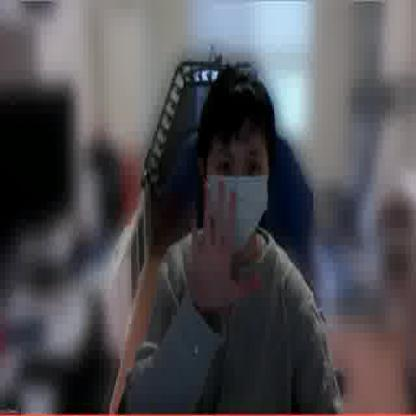five: (187, 168, 260, 320)
